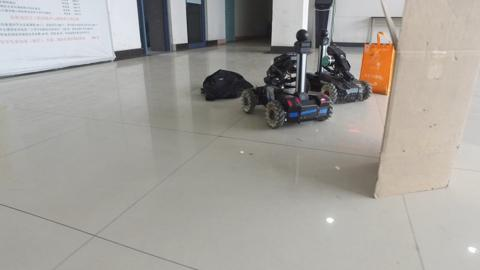bag: (364, 36, 391, 93)
chariot: (239, 30, 334, 128), (316, 26, 374, 105)
